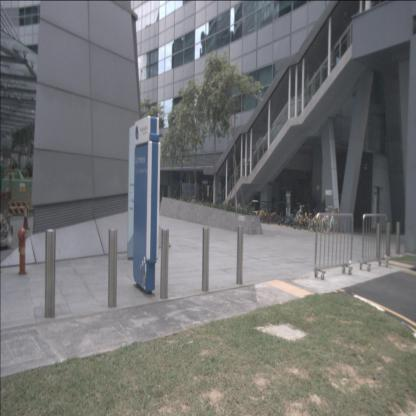barrier: (314, 211, 353, 279), (360, 212, 390, 271)
